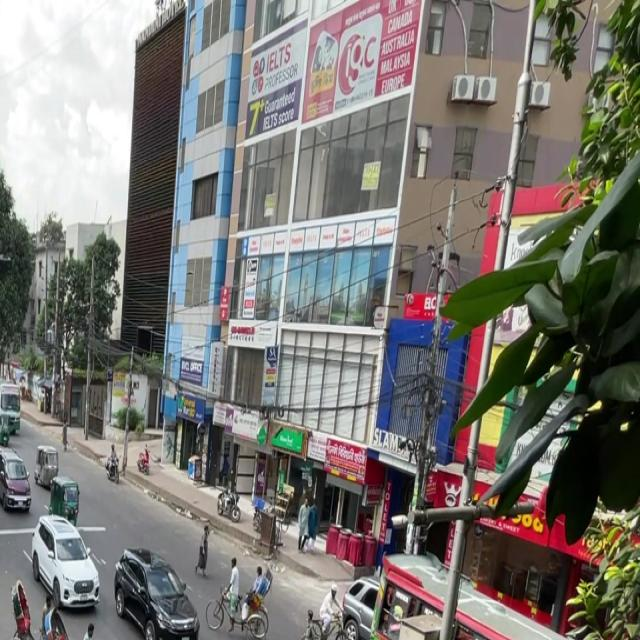car: (108, 539, 208, 640), (26, 511, 104, 612), (328, 574, 390, 640), (0, 447, 36, 517), (33, 438, 64, 491)
motorbike: (214, 487, 239, 526), (105, 446, 125, 487), (135, 440, 154, 476)
rickshaw: (48, 461, 81, 519)
